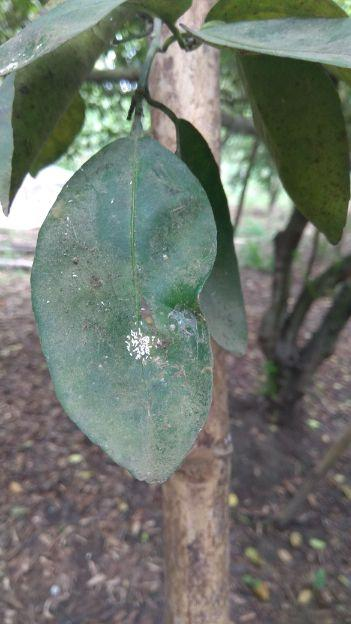Myzus persicae: (127, 327, 155, 361)
